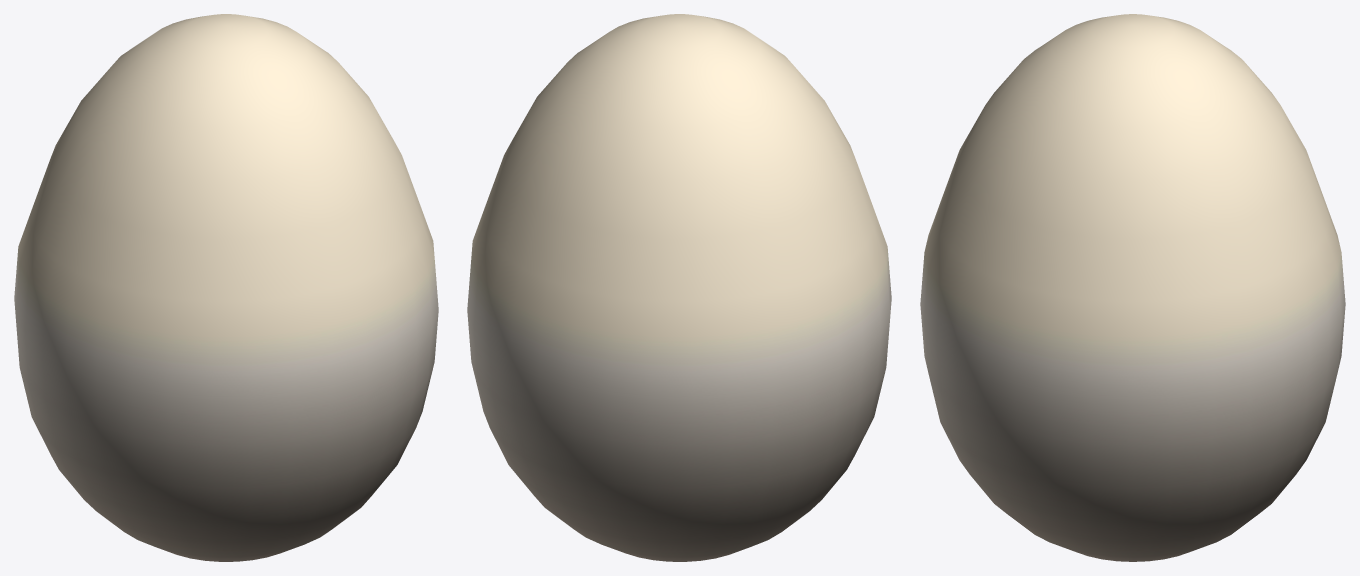
Rendered from egg11.glb.
3 renders of one model, left to right at view 1: azimuth 30°, elevation 25°; view 2: azimuth 150°, elevation 25°; view 3: azimuth 270°, elevation 25°, orthographic.
Parts seen in each view (by area): view 1: Sphere001; view 2: Sphere001; view 3: Sphere001.
Part boxes in pixels (box(x1,y1,x2,y2)): Sphere001: box(14, 14, 438, 561); Sphere001: box(467, 14, 891, 561); Sphere001: box(920, 14, 1345, 561).
Bounding box in the file's own units: 0.7237 × 0.9744 × 0.7237.
1 material, 1 textured.
